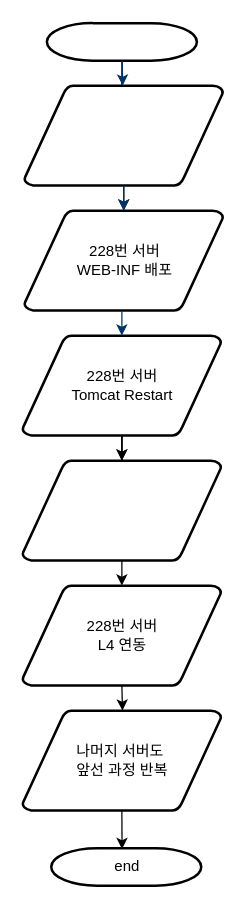
This 246x908 diagram has some shape labels left out. The centre of each missing label's shape, as x and y in pixels:
228번 서버 L4 제외: (x=123, y=135)
228번 서버 트래픽 제어 스케줄 ON: (x=121, y=510)
start: (x=121, y=41)
